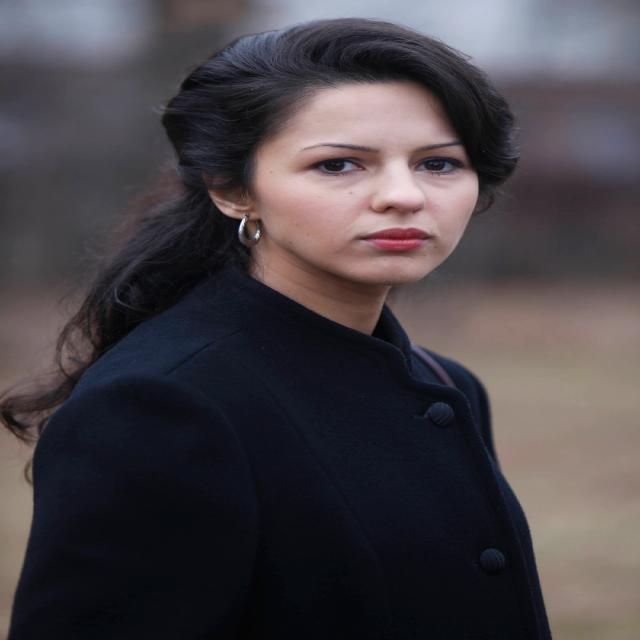human: (6, 12, 564, 640)
